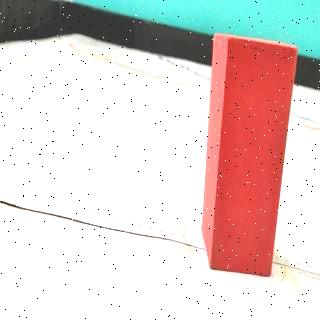redbox: (201, 32, 297, 276)
